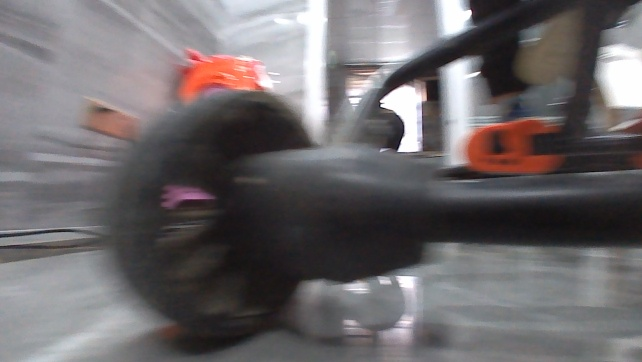wire: (0, 226, 98, 251)
